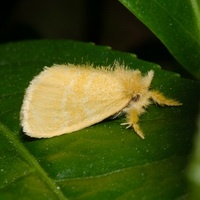insect: (20, 61, 181, 138)
